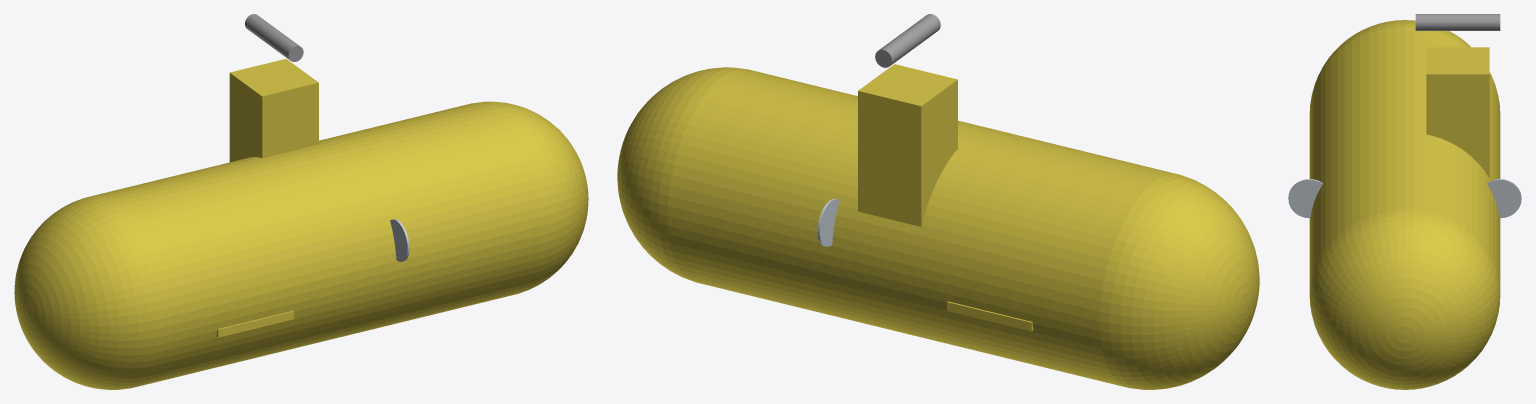
Rendered from submarine.glb.
3 renders of one model, left to right at view 1: azimuth 30°, elevation 25°; view 2: azimuth 150°, elevation 25°; view 3: azimuth 270°, elevation 25°, orthographic. The views are drawn at different scales.
Parts seen in each view (by area): view 1: part_00, part_01, part_02, part_06, part_08; view 2: part_00, part_01, part_02, part_07, part_09; view 3: part_00, part_01, part_02, part_08, part_09.
Boxes of the visible parts, x1=… form: part_00: x1=14, y1=101, x2=588, y2=389; part_01: x1=229, y1=59, x2=318, y2=162; part_02: x1=245, y1=14, x2=303, y2=61; part_06: x1=216, y1=311, x2=293, y2=337; part_08: x1=390, y1=219, x2=409, y2=261; part_00: x1=617, y1=67, x2=1259, y2=389; part_01: x1=858, y1=64, x2=957, y2=226; part_02: x1=875, y1=14, x2=940, y2=67; part_07: x1=947, y1=301, x2=1033, y2=331; part_09: x1=817, y1=198, x2=839, y2=246; part_00: x1=1309, y1=20, x2=1500, y2=389; part_01: x1=1426, y1=47, x2=1489, y2=178; part_02: x1=1415, y1=14, x2=1500, y2=30; part_08: x1=1288, y1=179, x2=1322, y2=218; part_09: x1=1487, y1=179, x2=1521, y2=218.
Size of the model in its own units: 5.8 by 2.88 by 2.2.
